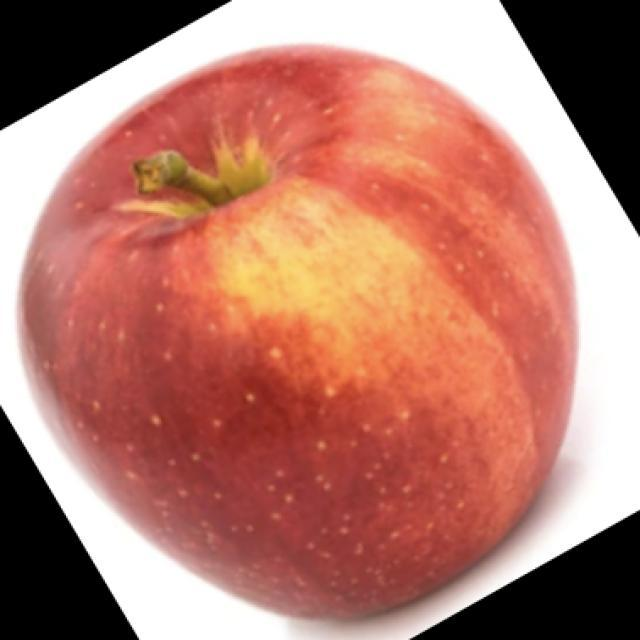Apple: (16, 42, 580, 621)
